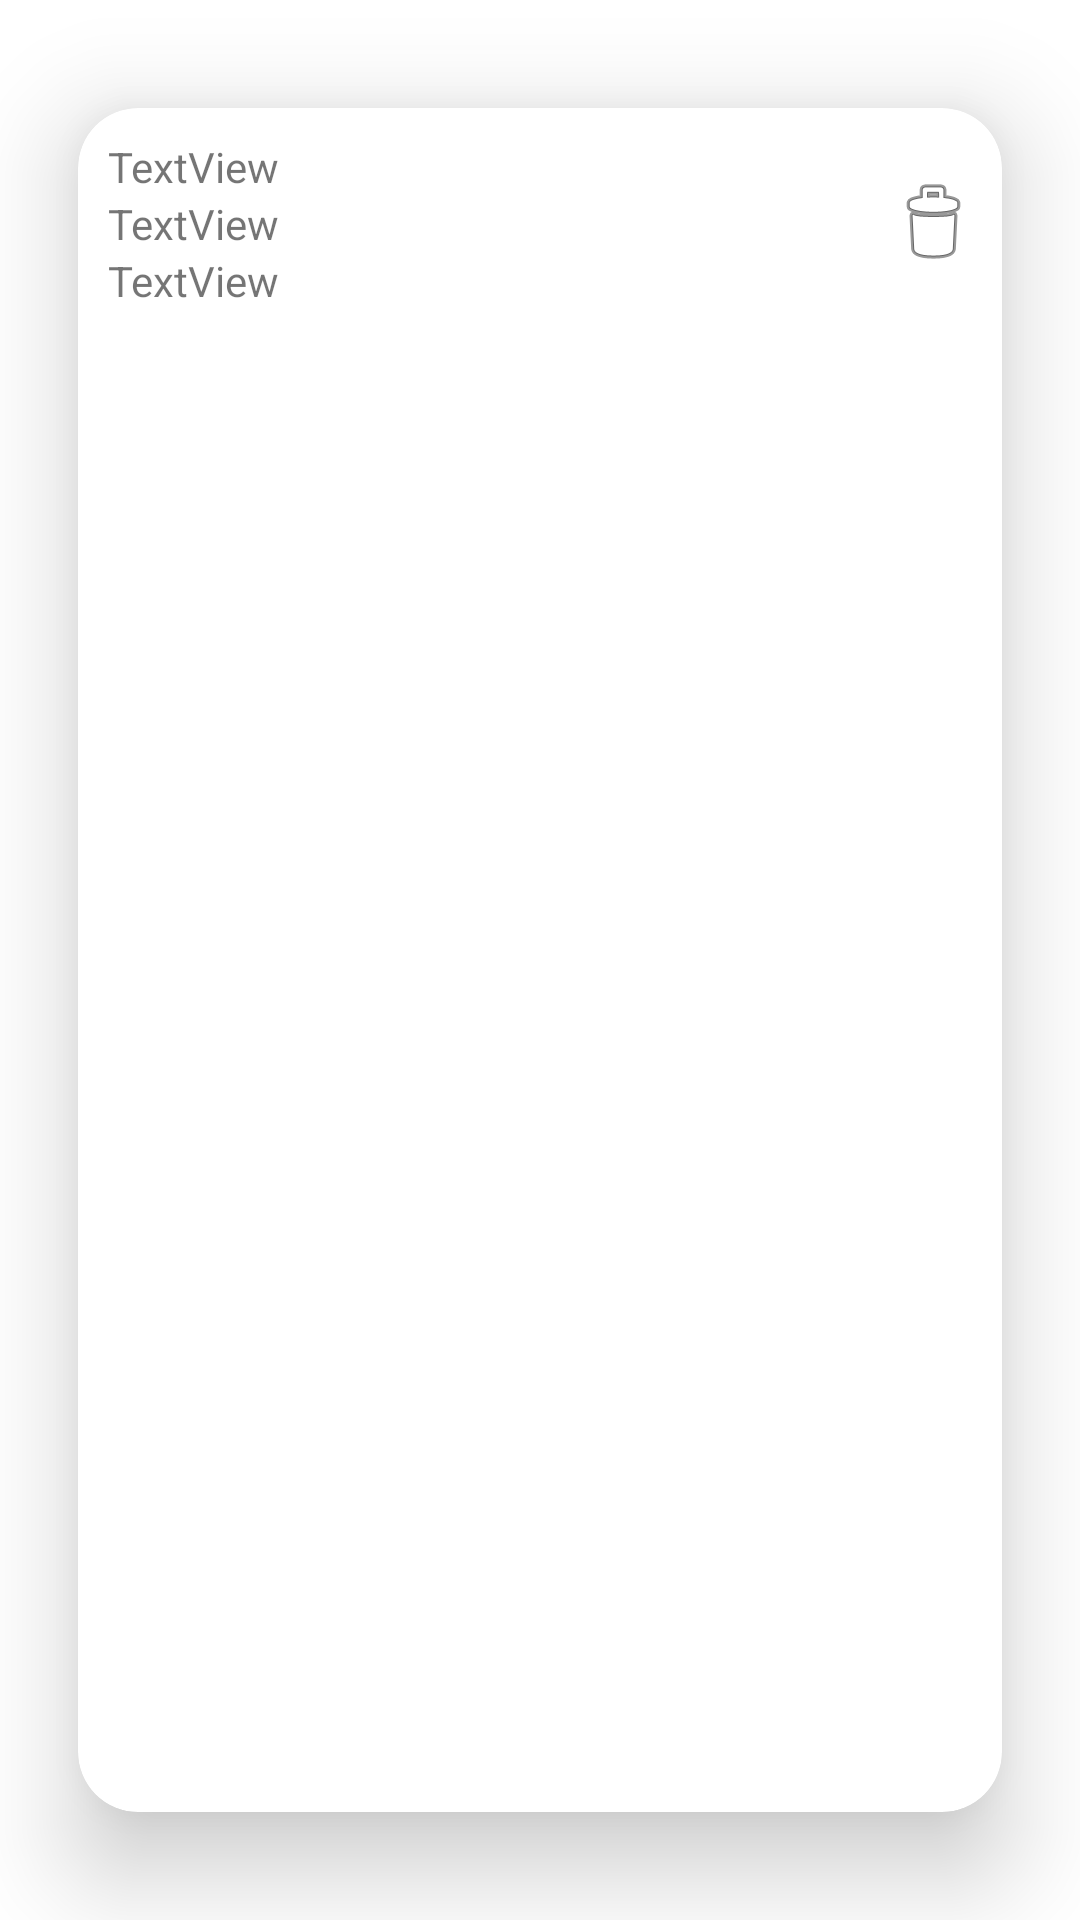

Icon bounding boxes for this 1080 × 1920 phone screenshot, format (x1, y1, x2, y2):
delete: (906, 184, 961, 259)
